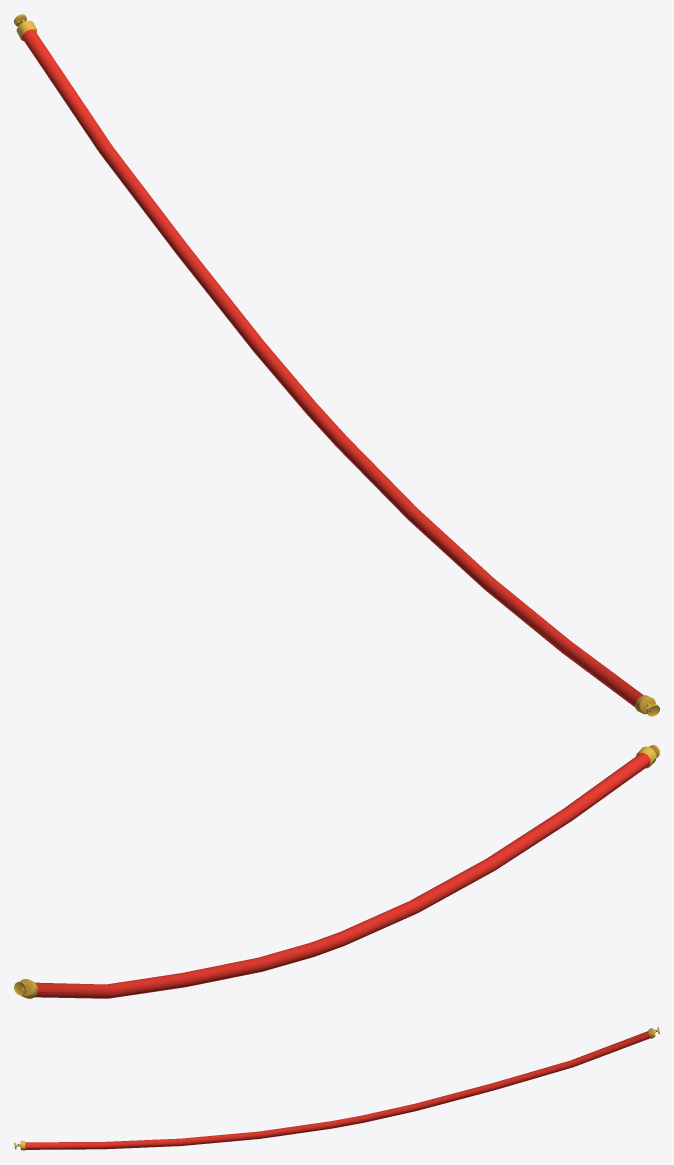
The model's file is RopeBarrier2.fbx.
3 renders of one model, top to bottom at view 1: azimuth 30°, elevation 25°; view 2: azimuth 150°, elevation 25°; view 3: azimuth 270°, elevation 25°, orthographic. The views are drawn at different scales.
Visible parts, largest first — view 1: Cylinder.002; view 2: Cylinder.002; view 3: Cylinder.002.
Boxes of the visible parts, x1,y1,x2,y2 form: Cylinder.002: (14, 14, 659, 716); Cylinder.002: (14, 745, 659, 998); Cylinder.002: (14, 1027, 659, 1150).
Size of the model in its own units: 6.41 by 89.43 by 426.
